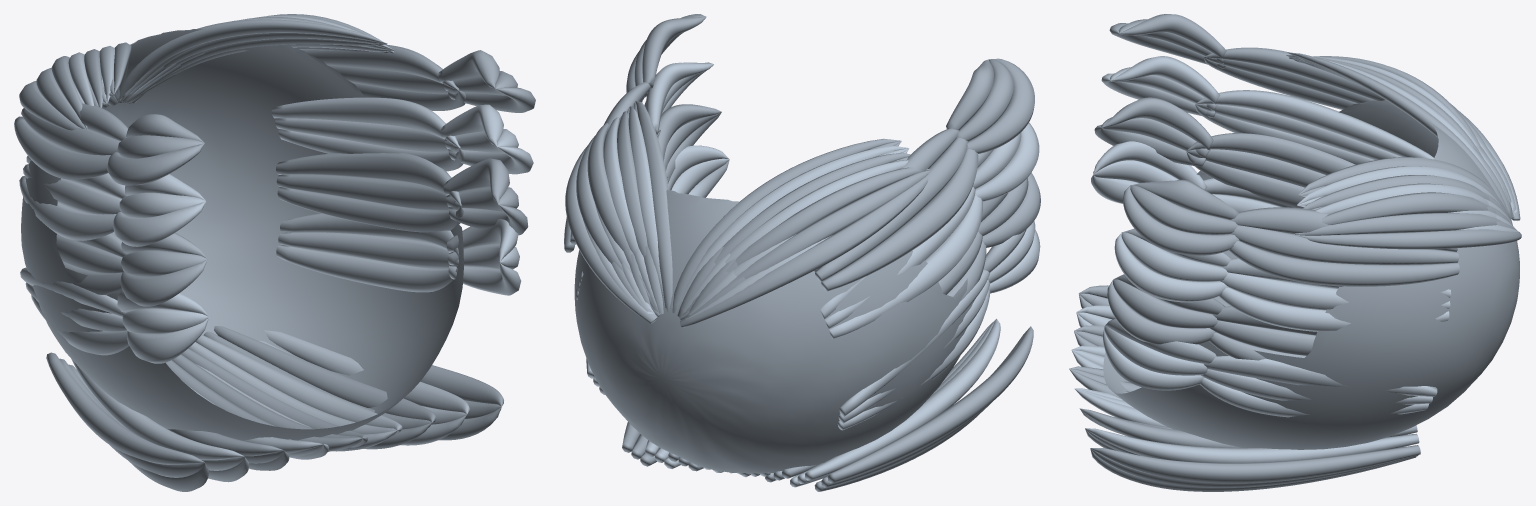
3 renders of one model, left to right at view 1: azimuth 30°, elevation 25°; view 2: azimuth 150°, elevation 25°; view 3: azimuth 270°, elevation 25°, orthographic. The views are drawn at different scales.
Parts seen in each view (by area): view 1: CrownHair_ref13, SideHair_Upper_1_2_Strand2, SideHair_Upper_1_3_Strand0, BackHair_06_Strand2, SideHair_Upper_1_1_Strand2, SideHair_Upper_1_3_Strand1, SideHair_Upper_1_2_Strand0, SideHair_Upper_1_2_Strand1, BackHair_00_Strand0, FrontHair_CenterPart_1_0_Strand2, BackHair_05_Strand2, SideHair_Upper_1_1_Strand1 (+69 smaller); view 2: CrownHair_ref13, FrontHair_CenterPart_-1_4_Strand2, BackHair_00_Strand0, SideHair_Upper_-1_0_Strand2, BackHair_01_Strand0, SideHair_Upper_-1_1_Strand2, FrontHair_CenterPart_-1_4_Strand1, FrontHair_CenterPart_-1_4_Strand0, SideHair_Upper_-1_0_Strand1, FrontHair_CenterPart_-1_0_Strand0, FrontHair_CenterPart_1_0_Strand2, FrontHair_CenterPart_-1_1_Strand0 (+39 smaller); view 3: CrownHair_ref13, BackHair_08_Strand2, SideHair_Upper_1_0_Strand0, BackHair_07_Strand2, SideHair_Upper_-1_1_Strand0, SideHair_Upper_1_0_Strand1, FrontHair_CenterPart_1_4_Strand0, FrontHair_CenterPart_1_4_Strand1, FrontHair_CenterPart_1_4_Strand2, SideHair_Upper_-1_2_Strand0, SideHair_Wave_1_0_Strand0, SideHair_Upper_-1_1_Strand1 (+54 smaller).
Part boxes in pixels (x1,y1,x2,y2): CrownHair_ref13: (21,29,463,440); SideHair_Upper_1_2_Strand2: (276,153,461,205); SideHair_Upper_1_3_Strand0: (276,244,457,292); BackHair_06_Strand2: (214,326,436,422); SideHair_Upper_1_1_Strand2: (271,97,459,147); SideHair_Upper_1_3_Strand1: (278,232,458,268); SideHair_Upper_1_2_Strand0: (277,187,463,232); SideHair_Upper_1_2_Strand1: (276,174,462,210); BackHair_00_Strand0: (46,352,204,464); FrontHair_CenterPart_1_0_Strand2: (119,19,387,102); BackHair_05_Strand2: (195,334,402,434); SideHair_Upper_1_1_Strand1: (275,118,461,152); CrownHair_ref13: (574,189,983,473); FrontHair_CenterPart_-1_4_Strand2: (680,174,928,327); BackHair_00_Strand0: (827,326,1033,483); SideHair_Upper_-1_0_Strand2: (821,149,978,291); BackHair_01_Strand0: (805,319,1000,480); SideHair_Upper_-1_1_Strand2: (828,195,982,338); FrontHair_CenterPart_-1_4_Strand1: (679,170,930,320); FrontHair_CenterPart_-1_4_Strand0: (735,167,930,265); SideHair_Upper_-1_0_Strand1: (815,137,968,281); FrontHair_CenterPart_-1_0_Strand0: (672,139,901,313); FrontHair_CenterPart_1_0_Strand2: (635,101,672,312); FrontHair_CenterPart_-1_1_Strand0: (681,146,908,301); CrownHair_ref13: (1103,100,1519,449); BackHair_08_Strand2: (1091,445,1420,483); SideHair_Upper_1_0_Strand0: (1229,241,1459,286); BackHair_07_Strand2: (1085,428,1419,463); SideHair_Upper_-1_1_Strand0: (1195,90,1433,159); SideHair_Upper_1_0_Strand1: (1230,225,1458,264); FrontHair_CenterPart_1_4_Strand0: (1294,229,1521,249); FrontHair_CenterPart_1_4_Strand1: (1294,213,1500,235); FrontHair_CenterPart_1_4_Strand2: (1294,192,1488,234); SideHair_Upper_-1_2_Strand0: (1187,133,1355,174); SideHair_Wave_1_0_Strand0: (1123,185,1239,255); SideHair_Upper_-1_1_Strand1: (1196,104,1401,159).
Size of the model in its own units: 0.6765 by 0.6254 by 0.7091.
